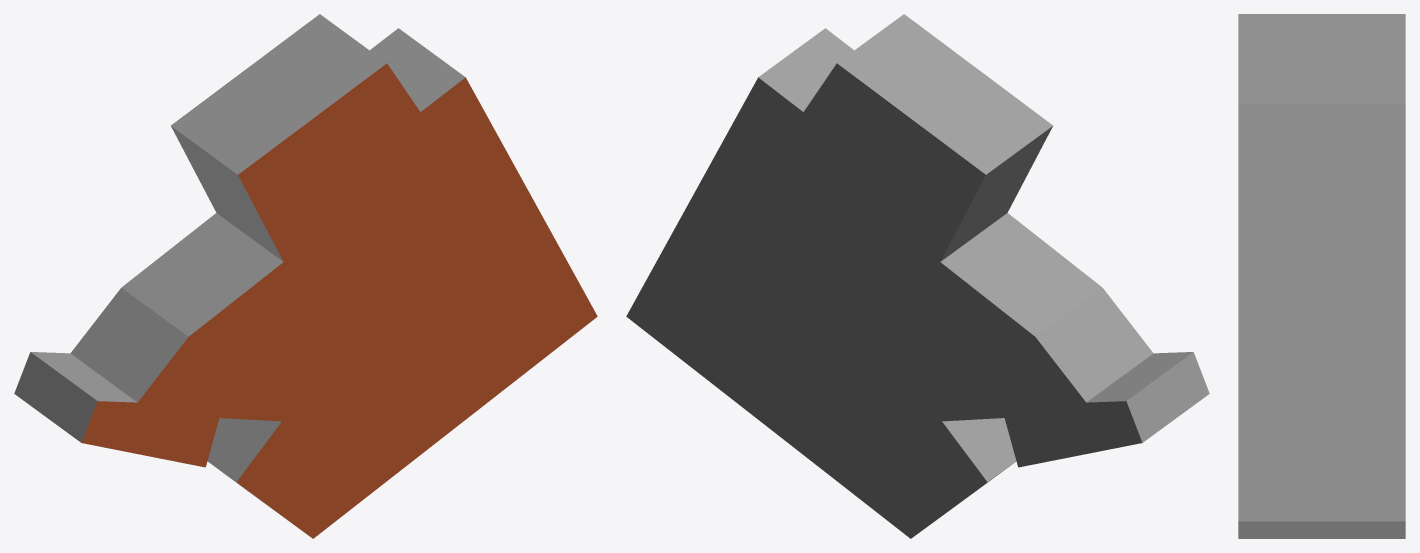
The model's file is construction_5964_assumed_A_Casa_h6m.obj.
The picture shows the model from 3 angles, left to right: view 1: azimuth 30°, elevation 25°; view 2: azimuth 150°, elevation 25°; view 3: azimuth 270°, elevation 25°; orthographic projection. The views are drawn at different scales.
Visible parts, largest first — view 1: construction_5964_assumed_A_Casa; view 2: construction_5964_assumed_A_Casa; view 3: construction_5964_assumed_A_Casa.
Boxes of the visible parts, box(x1,y1,x2,y2) form: construction_5964_assumed_A_Casa: box(14, 14, 597, 538); construction_5964_assumed_A_Casa: box(626, 14, 1209, 538); construction_5964_assumed_A_Casa: box(1238, 14, 1405, 538).
Bounding box in the file's own units: 26.59 × 22.53 × 6.
